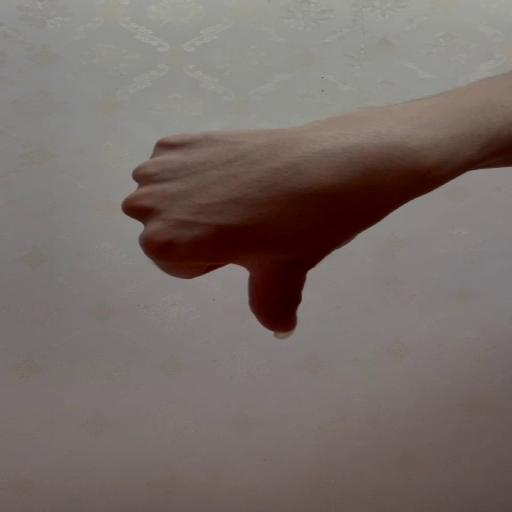thumbs_down: (119, 127, 370, 339)
